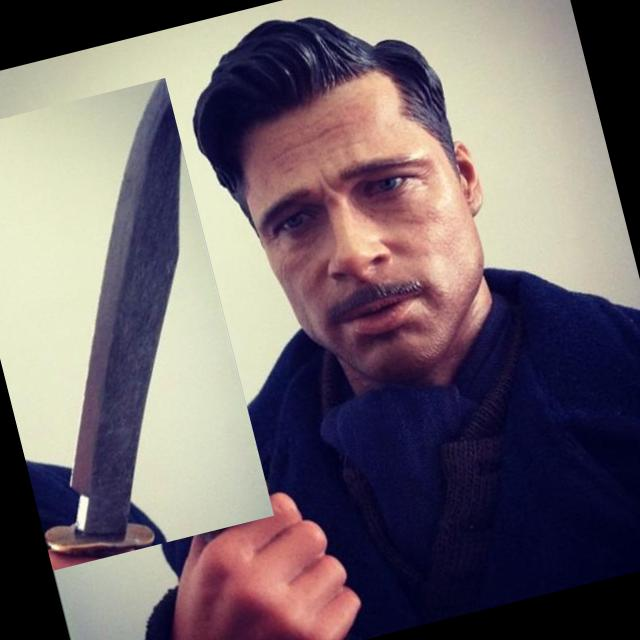Knife: (45, 78, 182, 557)
